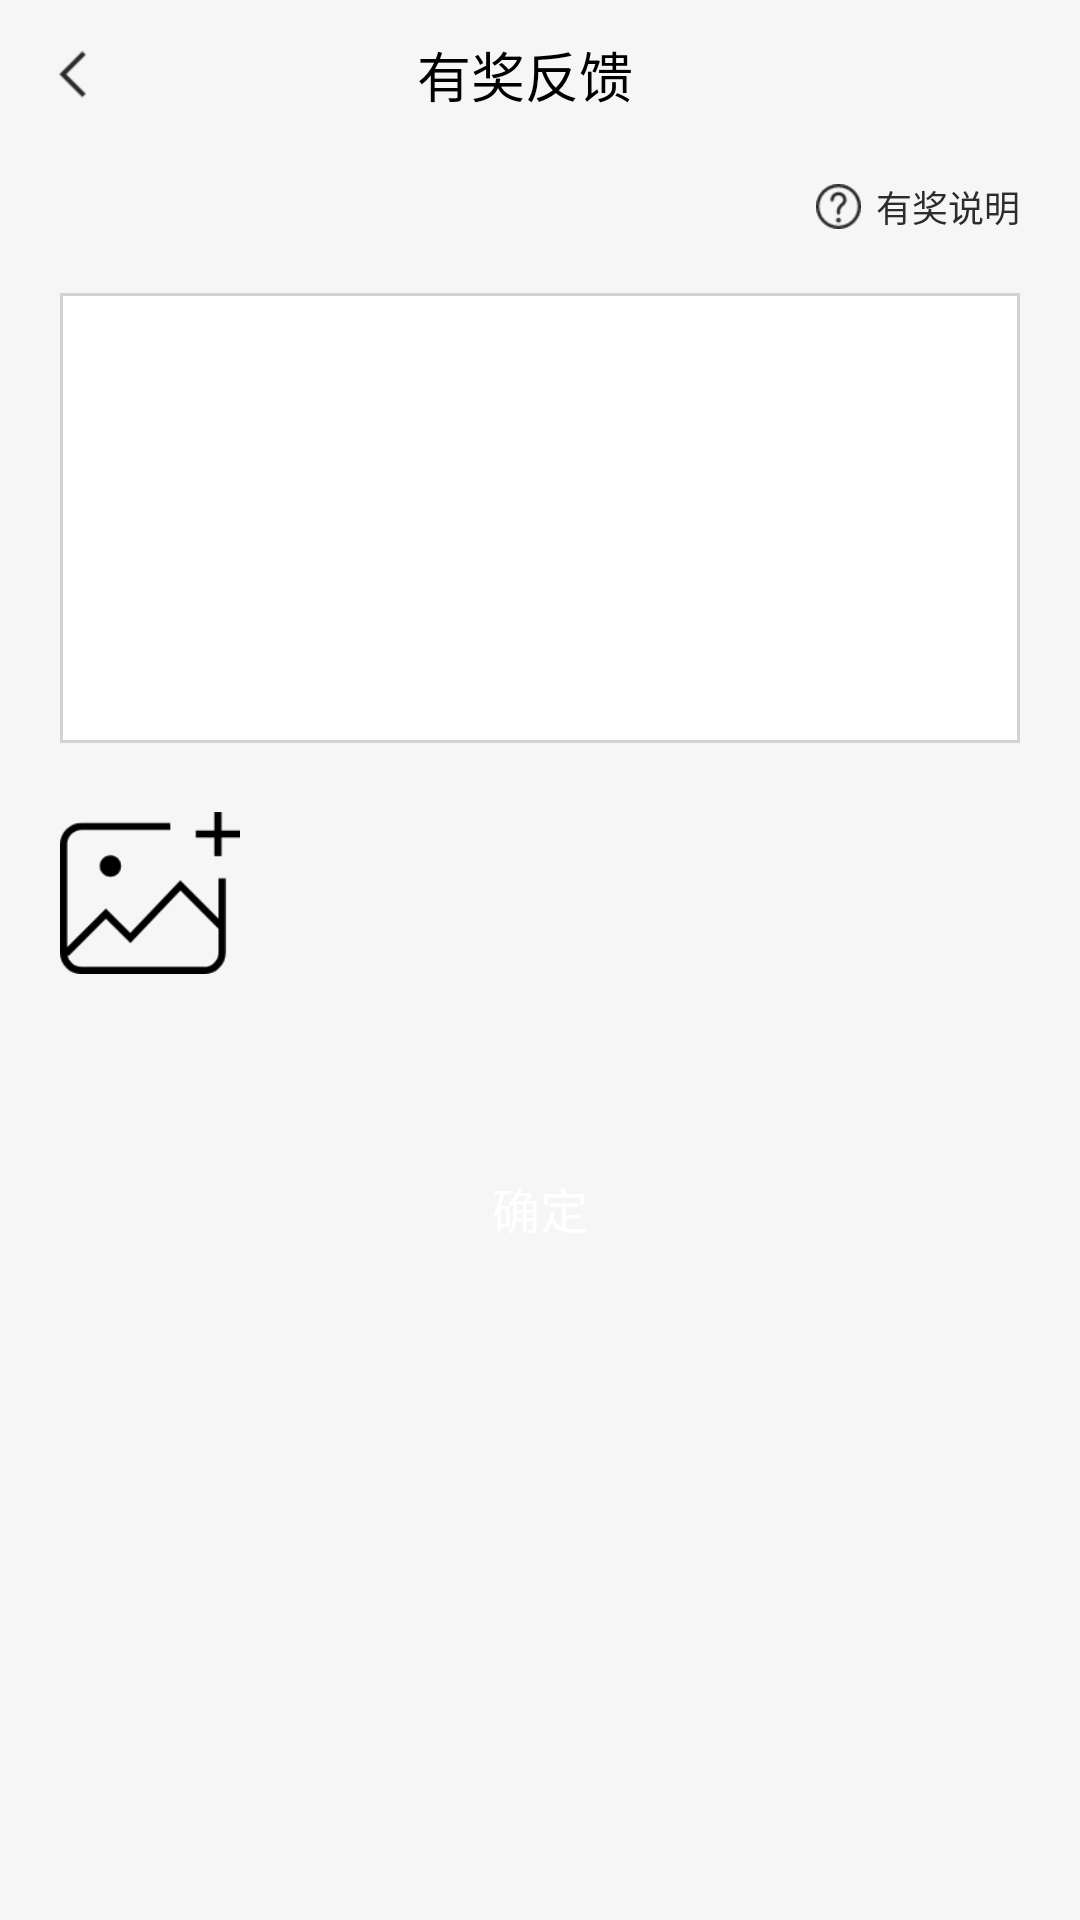

Screen size 1080 × 1920. Icon name, then its box in pixels as (x1, y1, x2, y2):
mine tip: (816, 184, 861, 229)
